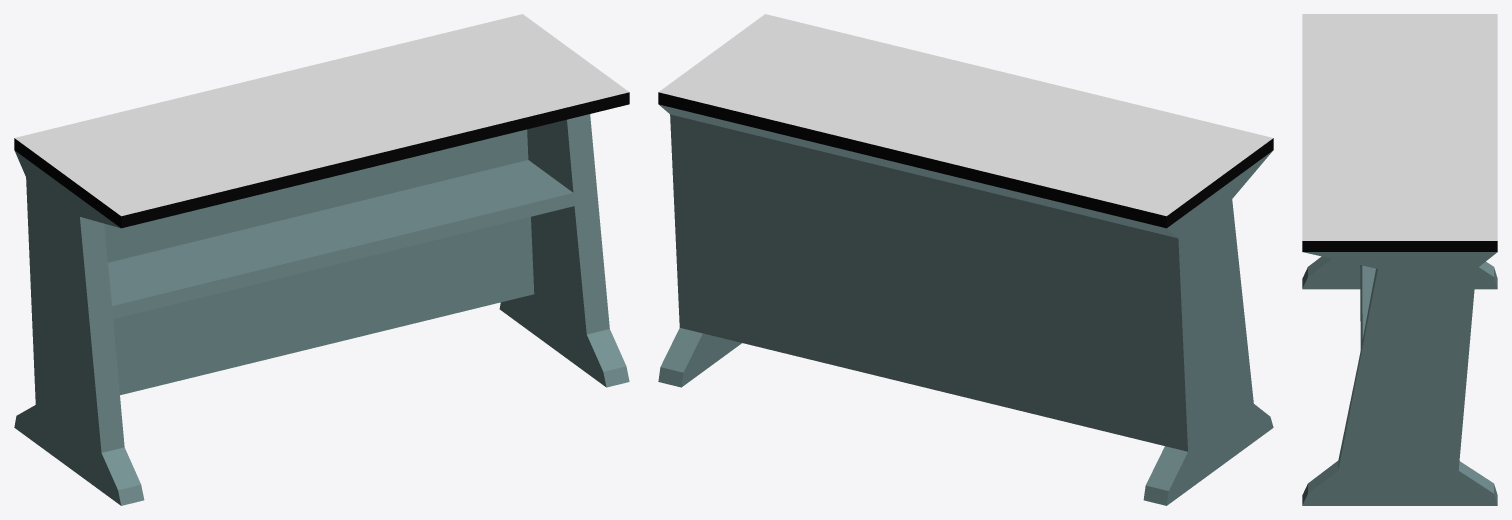
Rendered from table.fbx.
3 views of the same model, side by side, from view 1: azimuth 30°, elevation 25°; view 2: azimuth 150°, elevation 25°; view 3: azimuth 270°, elevation 25° (orthographic). The views are drawn at different scales.
Parts seen in each view (by area): view 1: Table; view 2: Table; view 3: Table.
Part boxes in pixels (bbox=[...]): Table: bbox=[14, 14, 629, 505]; Table: bbox=[658, 14, 1273, 505]; Table: bbox=[1302, 14, 1497, 505].
Size of the model in its own units: 2.2 by 1.2 by 0.8002.
